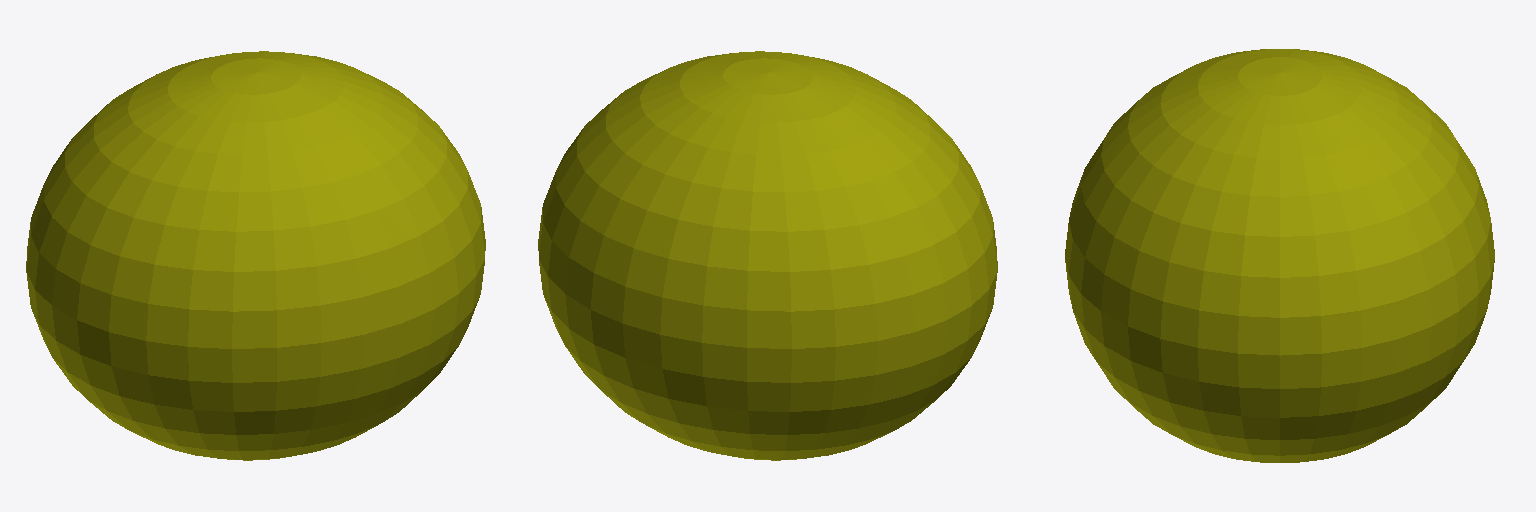
File: moya_rice_y.obj
The picture shows the model from 3 angles: view 1: azimuth 30°, elevation 25°; view 2: azimuth 150°, elevation 25°; view 3: azimuth 270°, elevation 25°; orthographic projection.
Parts seen in each view (by area): view 1: Sphere_Sphere.005_Sphere_Sphere.007; view 2: Sphere_Sphere.005_Sphere_Sphere.007; view 3: Sphere_Sphere.005_Sphere_Sphere.007.
Boxes of the visible parts, x1,y1,x2,y2 form: Sphere_Sphere.005_Sphere_Sphere.007: [26, 51, 485, 460]; Sphere_Sphere.005_Sphere_Sphere.007: [538, 51, 997, 460]; Sphere_Sphere.005_Sphere_Sphere.007: [1065, 49, 1494, 462].
Size of the model in its own units: 0.2297 by 0.1969 by 0.21.